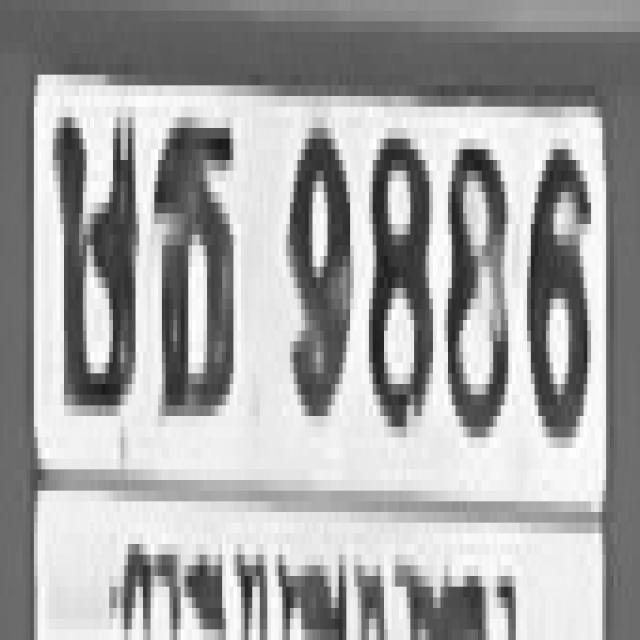33ThorThong: (150, 107, 230, 405)
48SorRueSi: (49, 107, 132, 405)
6: (524, 138, 588, 426)
8: (365, 128, 429, 416), (444, 128, 504, 427)
9: (286, 117, 346, 406)
